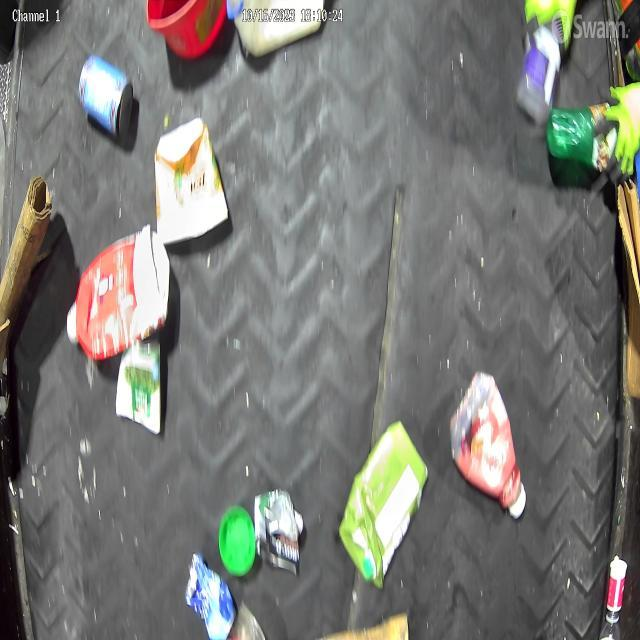can: (78, 60, 132, 144), (253, 491, 302, 570)
non_white_jug: (340, 423, 428, 586), (66, 227, 170, 361)
